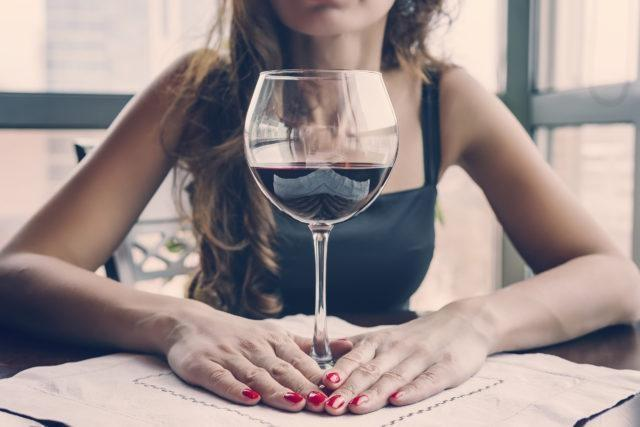glass-wine: (243, 65, 399, 386)
